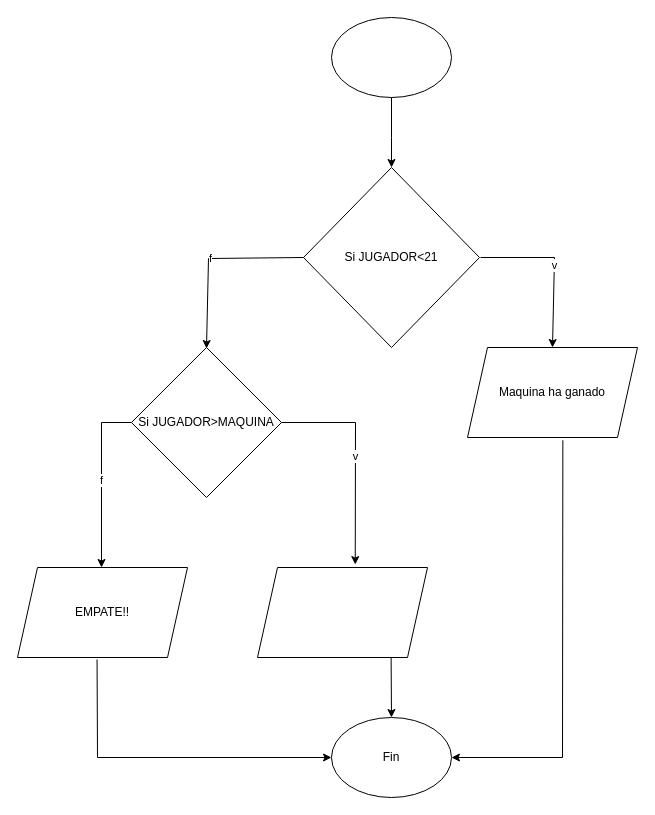
This 655x815 diagram has some shape labels left out. The box of each missing label's shape, as (x1, y1, x2, y2) in pixels:
Jugador has ganado: (256, 566, 428, 658)
Seemachinecards: (330, 16, 452, 98)
